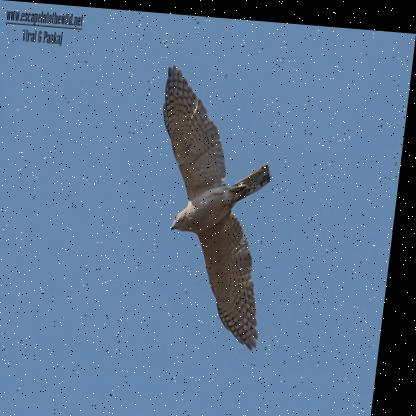Burung: (142, 61, 290, 346)
